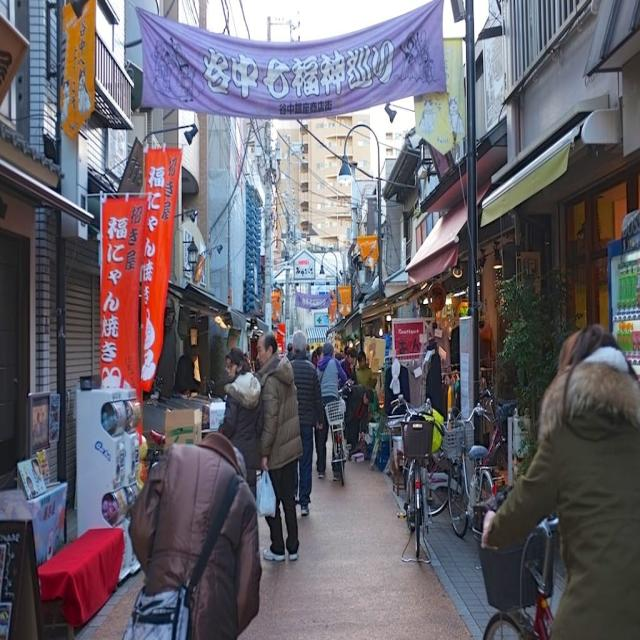body: (479, 316, 640, 640), (122, 426, 263, 639), (254, 328, 306, 563), (217, 346, 265, 504), (288, 328, 325, 516), (315, 341, 349, 482), (343, 383, 377, 462), (172, 343, 205, 395), (355, 349, 374, 436), (334, 348, 357, 378), (426, 283, 447, 310), (304, 339, 322, 366), (438, 369, 453, 394), (284, 337, 294, 364)
